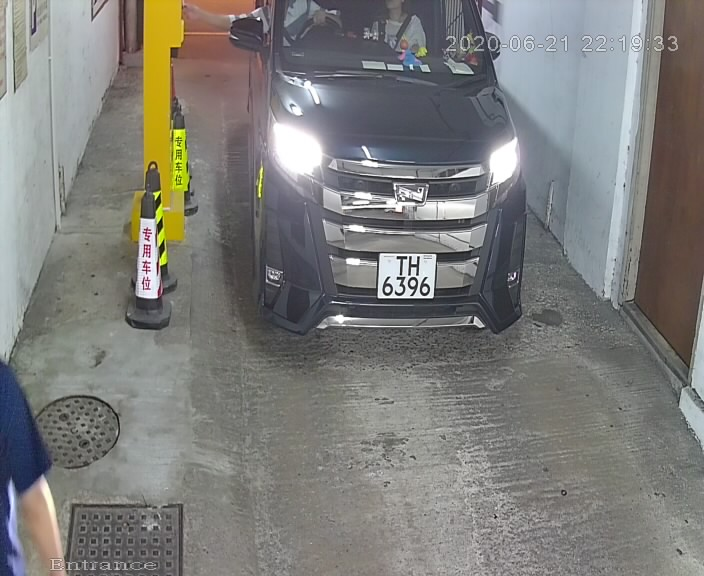privatecar: (203, 2, 547, 389)
